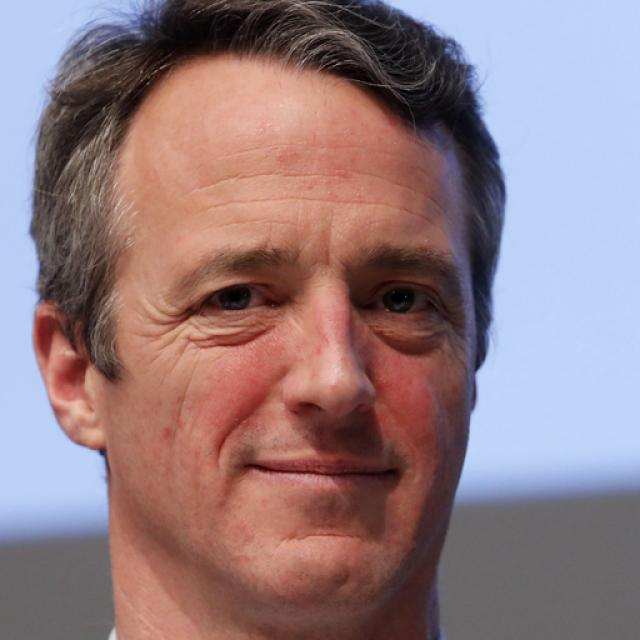Pigmentation: (199, 345, 290, 446), (368, 343, 436, 455)
